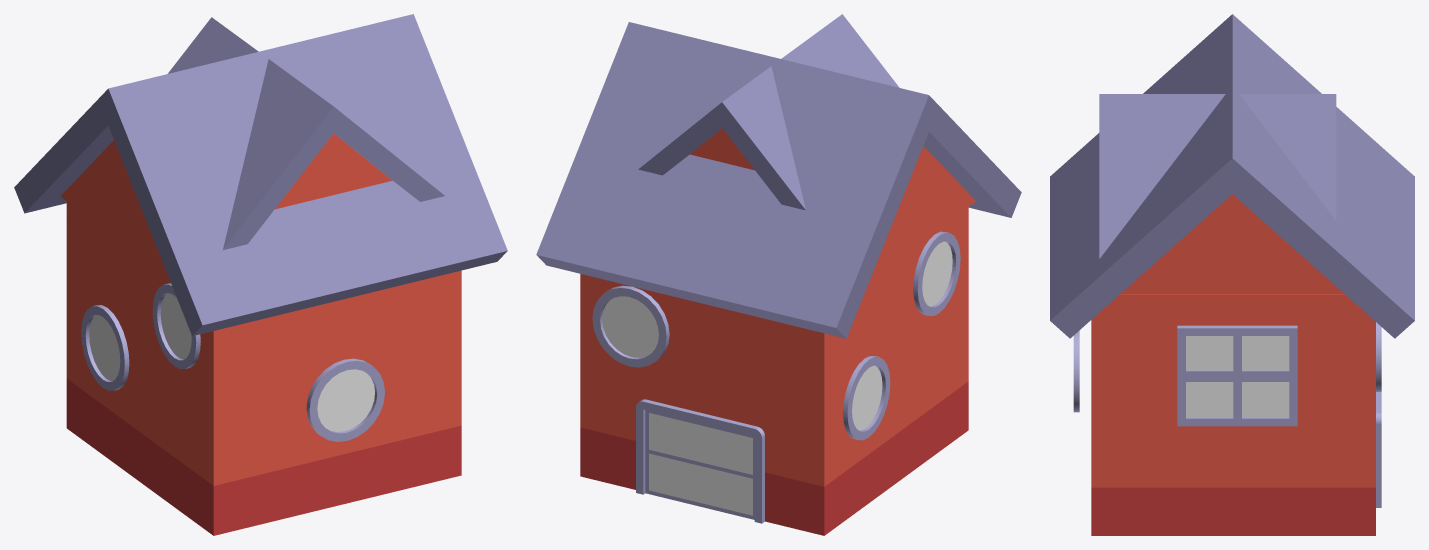
Rendered from home.glb.
The picture shows the model from 3 angles, left to right: view 1: azimuth 30°, elevation 25°; view 2: azimuth 150°, elevation 25°; view 3: azimuth 270°, elevation 25°; orthographic projection. The views are drawn at different scales.
Visible parts, largest first — view 1: mergedBlocks(Clone); view 2: mergedBlocks(Clone); view 3: mergedBlocks(Clone).
Boxes of the visible parts, bbox=[...] form: mergedBlocks(Clone): bbox=[14, 14, 507, 535]; mergedBlocks(Clone): bbox=[536, 14, 1021, 535]; mergedBlocks(Clone): bbox=[1050, 14, 1414, 535].
Bounding box in the file's own units: 1.73 × 2.17 × 1.85.
